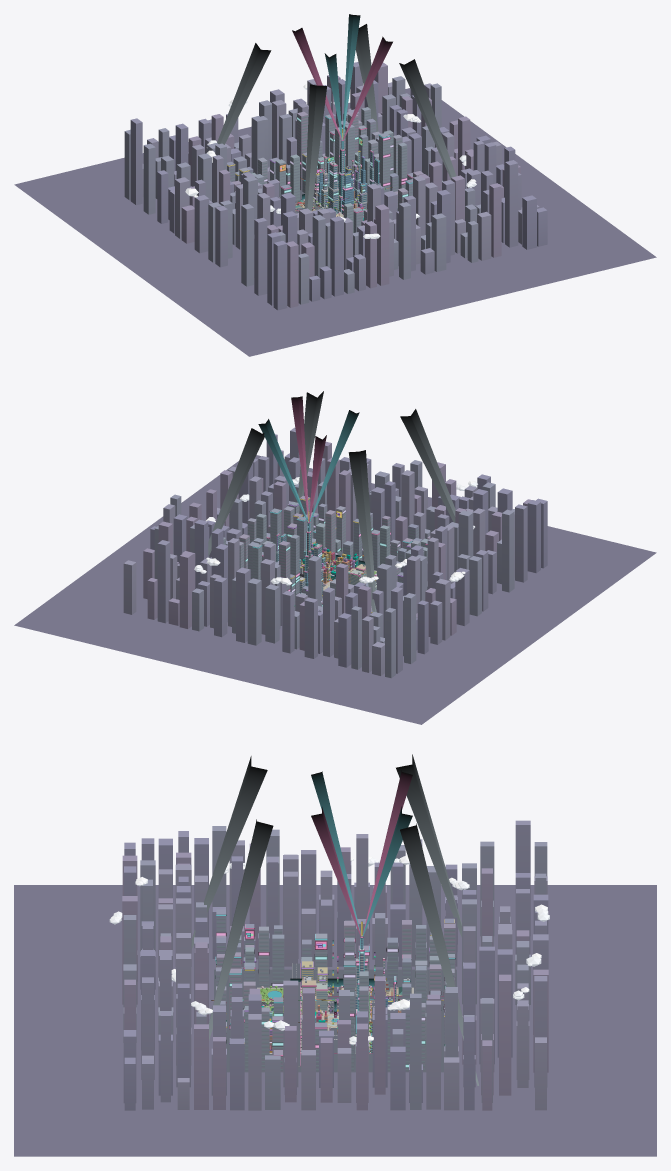
File: mega_city.glb
3 views of the same model, one above another, from view 1: azimuth 30°, elevation 25°; view 2: azimuth 150°, elevation 25°; view 3: azimuth 270°, elevation 25° (orthographic). The views are drawn at different scales.
Visible parts, largest first — view 1: MC_Color_whole_all, MC_Glow_city_21, MC_Color_city_31, MC_Color_city_21, MC_Color_city_20, MC_Glow_city_03, MC_Color_city_30, MC_Glow_city_33, MC_Glow_city_00, MC_Color_city_10, MC_Glow_city_30, MC_Cloud_whole_all; view 2: MC_Color_whole_all, MC_Glow_city_21, MC_Glow_city_00, MC_Color_city_23, MC_Glow_city_03, MC_Color_city_20, MC_Glow_city_30, MC_Color_city_13, MC_Color_city_33, MC_Glow_city_33, MC_Color_city_31, MC_Cloud_whole_all (+3 smaller); view 3: MC_Color_whole_all, MC_Glow_city_21, MC_Glow_city_33, MC_Glow_city_30, MC_Glow_city_03, MC_Glow_city_00, MC_Color_city_30, MC_Color_city_02, MC_Cloud_whole_all, MC_Color_city_31, MC_Color_city_03, MC_Color_city_01 (+9 smaller).
Boxes of the visible parts, bbox=[...] form: MC_Color_whole_all: bbox=[14, 62, 656, 356]; MC_Glow_city_21: bbox=[292, 14, 392, 212]; MC_Color_city_31: bbox=[352, 130, 407, 207]; MC_Color_city_21: bbox=[313, 141, 367, 216]; MC_Color_city_20: bbox=[297, 111, 345, 204]; MC_Glow_city_03: bbox=[304, 84, 327, 210]; MC_Color_city_30: bbox=[338, 107, 380, 183]; MC_Glow_city_33: bbox=[399, 59, 456, 195]; MC_Glow_city_00: bbox=[217, 43, 271, 191]; MC_Color_city_10: bbox=[258, 154, 312, 206]; MC_Glow_city_30: bbox=[334, 24, 378, 177]; MC_Cloud_whole_all: bbox=[185, 84, 476, 238]; MC_Color_whole_all: bbox=[14, 427, 656, 724]; MC_Glow_city_21: bbox=[258, 396, 359, 596]; MC_Glow_city_00: bbox=[348, 450, 376, 612]; MC_Color_city_23: bbox=[322, 506, 372, 568]; MC_Glow_city_03: bbox=[400, 409, 455, 547]; MC_Color_city_20: bbox=[252, 534, 307, 610]; MC_Glow_city_30: bbox=[208, 428, 264, 562]; MC_Color_city_13: bbox=[362, 515, 418, 574]; MC_Color_city_33: bbox=[283, 496, 336, 565]; MC_Glow_city_33: bbox=[289, 391, 336, 543]; MC_Color_city_31: bbox=[247, 508, 285, 562]; MC_Cloud_whole_all: bbox=[194, 477, 477, 585]; MC_Color_whole_all: bbox=[14, 820, 656, 1156]; MC_Glow_city_21: bbox=[311, 770, 412, 1044]; MC_Glow_city_33: bbox=[208, 819, 274, 1050]; MC_Glow_city_30: bbox=[396, 823, 478, 1085]; MC_Glow_city_03: bbox=[191, 756, 272, 986]; MC_Glow_city_00: bbox=[396, 754, 461, 977]; MC_Color_city_30: bbox=[396, 957, 454, 1072]; MC_Color_city_02: bbox=[272, 925, 335, 995]; MC_Cloud_whole_all: bbox=[109, 855, 549, 1045]; MC_Color_city_31: bbox=[335, 960, 397, 1072]; MC_Color_city_03: bbox=[214, 909, 283, 995]; MC_Color_city_01: bbox=[335, 920, 411, 995].
Bounding box in the file's own units: 900 × 376 × 900.
